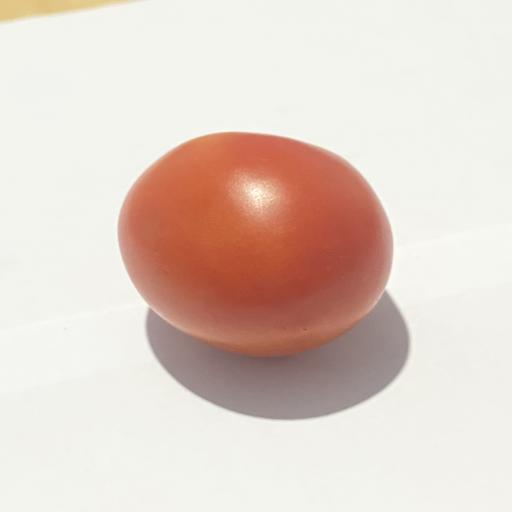ripe: (119, 132, 392, 356)
